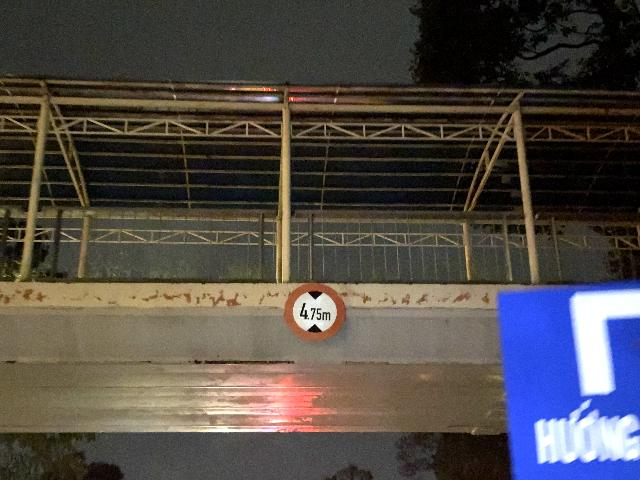han-che-chieu-cao: (284, 282, 346, 343)
